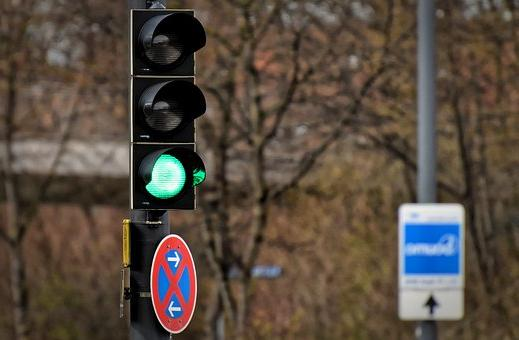trafic: (130, 7, 196, 208)
